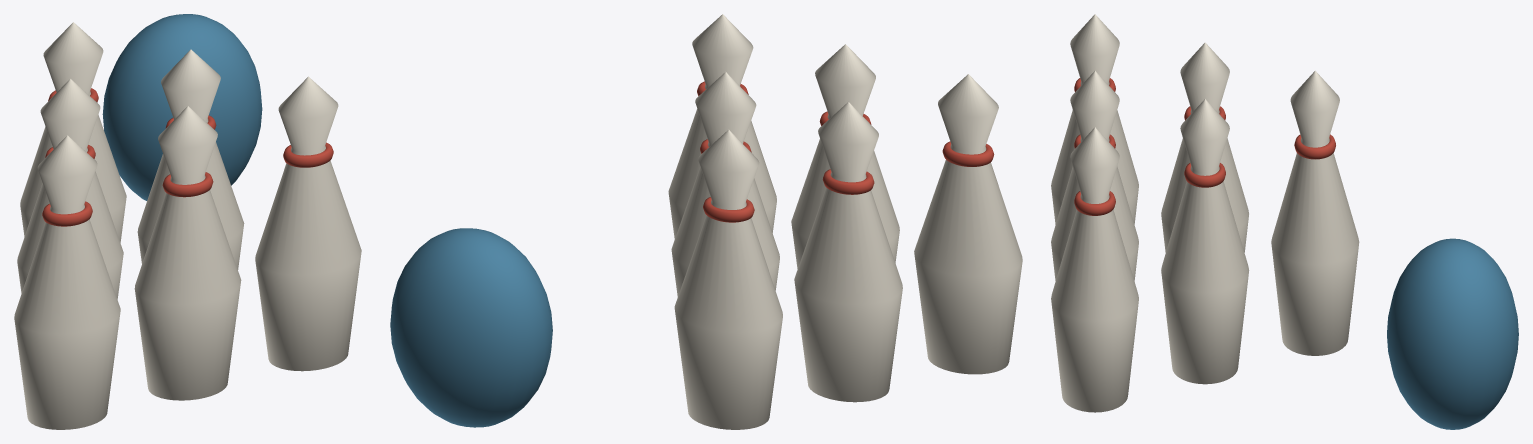
File: wp-quilles-et-boule.glb
3 views of the same model, side by side, from view 1: azimuth 30°, elevation 25°; view 2: azimuth 150°, elevation 25°; view 3: azimuth 270°, elevation 25° (orthographic). The views are drawn at different scales.
Visible parts, largest first — view 1: wp-quilles-et-boule; view 2: wp-quilles-et-boule; view 3: wp-quilles-et-boule.
Boxes of the visible parts, bbox=[...] form: wp-quilles-et-boule: bbox=[14, 14, 361, 429]; wp-quilles-et-boule: bbox=[390, 14, 1022, 429]; wp-quilles-et-boule: bbox=[1051, 14, 1518, 429].
Bounding box in the file's own units: 0.6 × 0.38 × 0.6.
